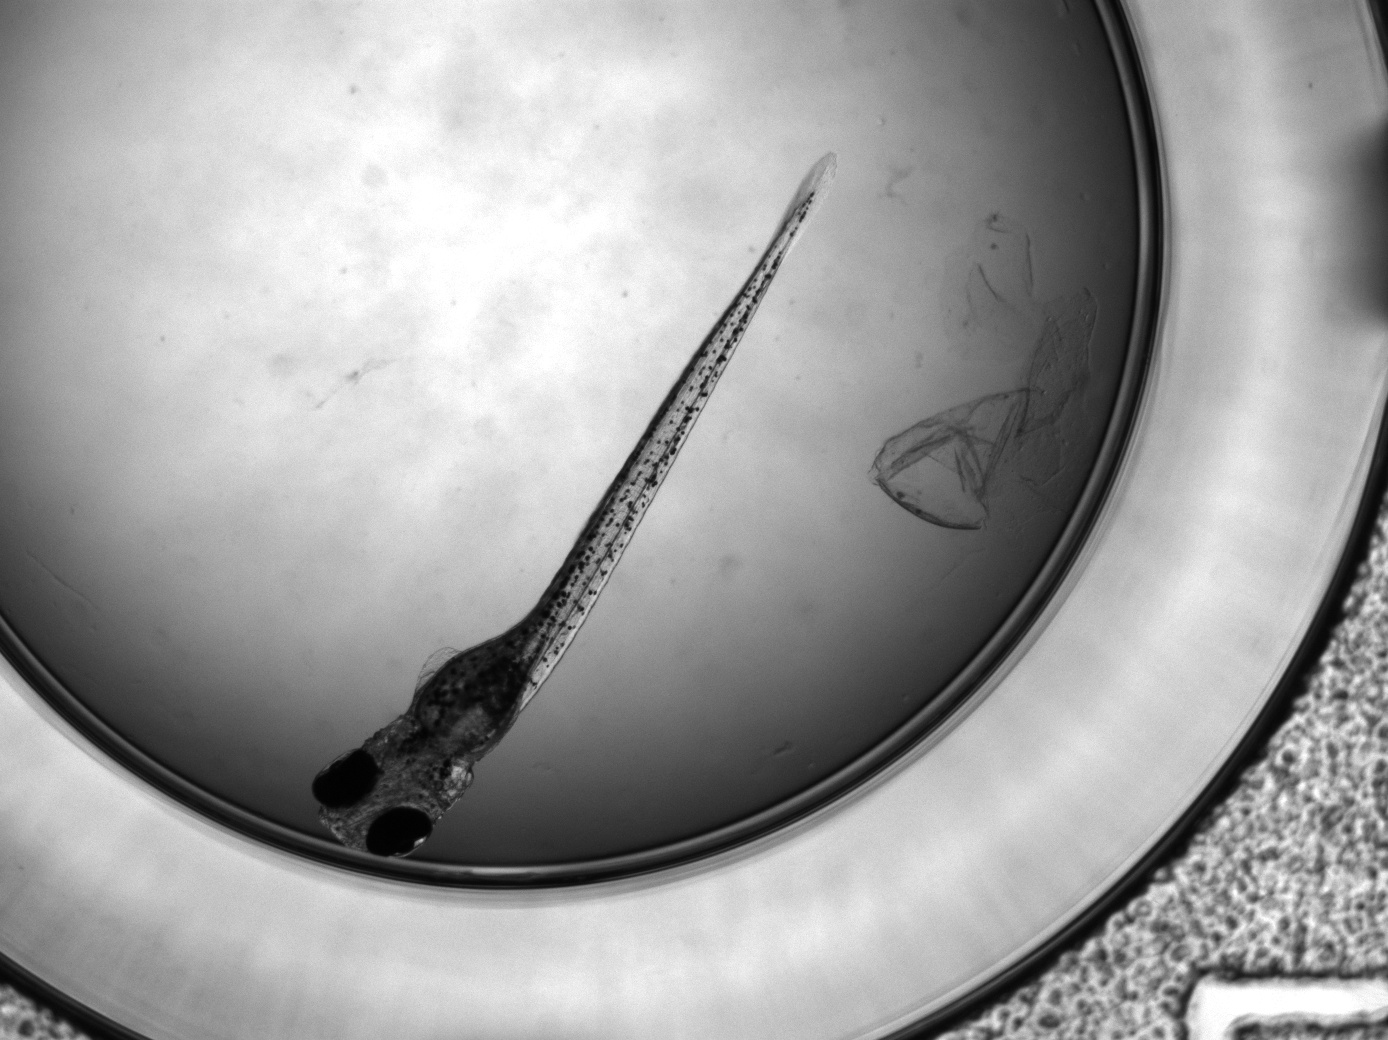debris: (869, 208, 1100, 531)
embryo: (313, 185, 819, 859)
eye: (315, 751, 380, 809), (366, 806, 434, 856)
yolksac: (410, 608, 553, 760)
